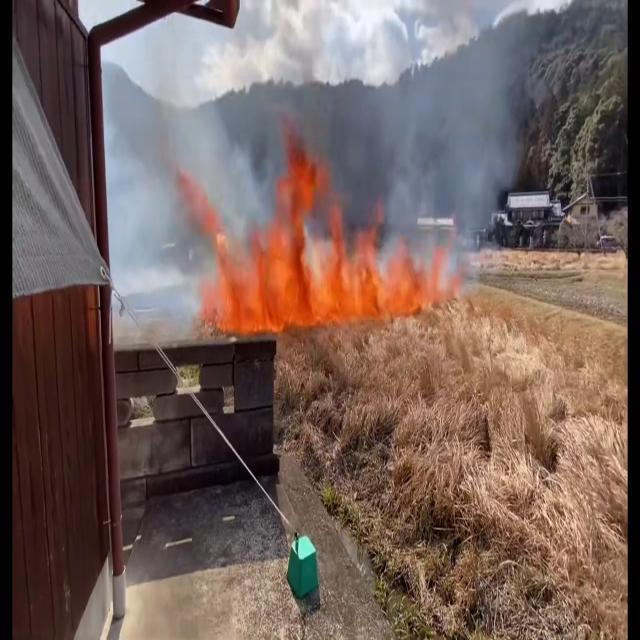Fire: (201, 153, 349, 334), (329, 212, 479, 334)
Smoke: (356, 1, 546, 288), (96, 22, 252, 245)
